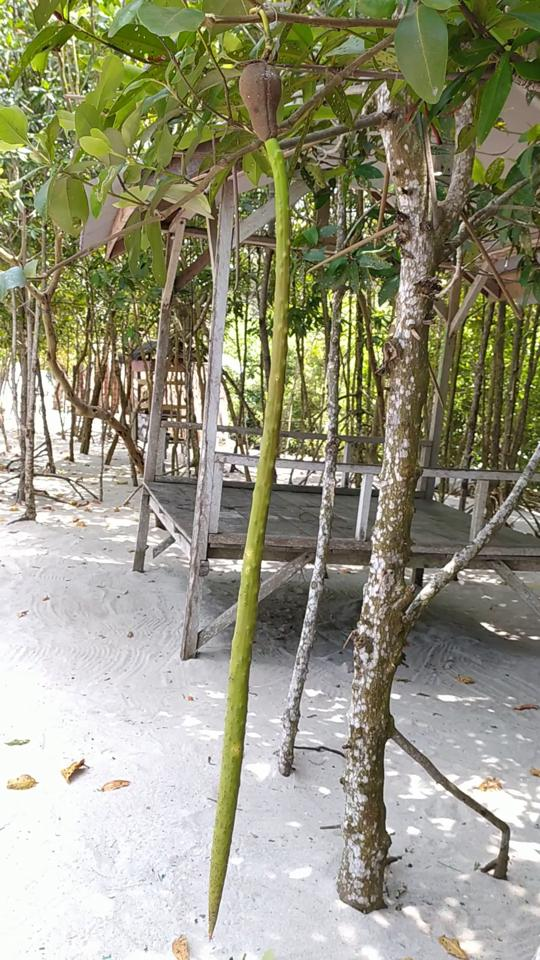mentah: (179, 47, 301, 947)
